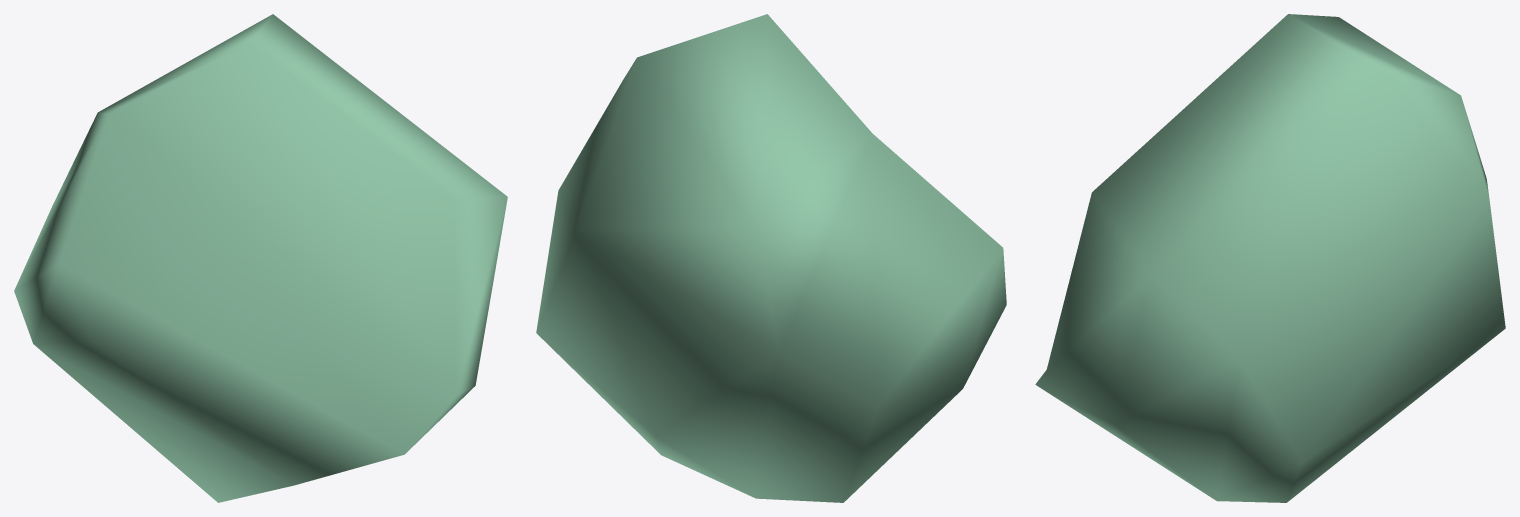
3 views of the same model, side by side, from view 1: azimuth 30°, elevation 25°; view 2: azimuth 150°, elevation 25°; view 3: azimuth 270°, elevation 25° (orthographic). The views are drawn at different scales.
Size of the model in its own units: 0.1558 by 0.1605 by 0.1467.
